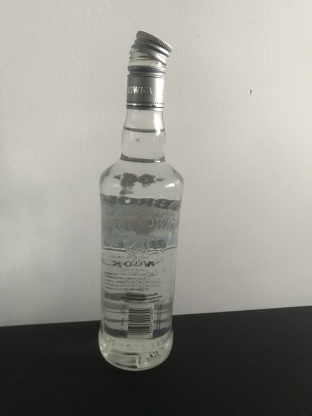nakretka: (124, 27, 173, 112)
